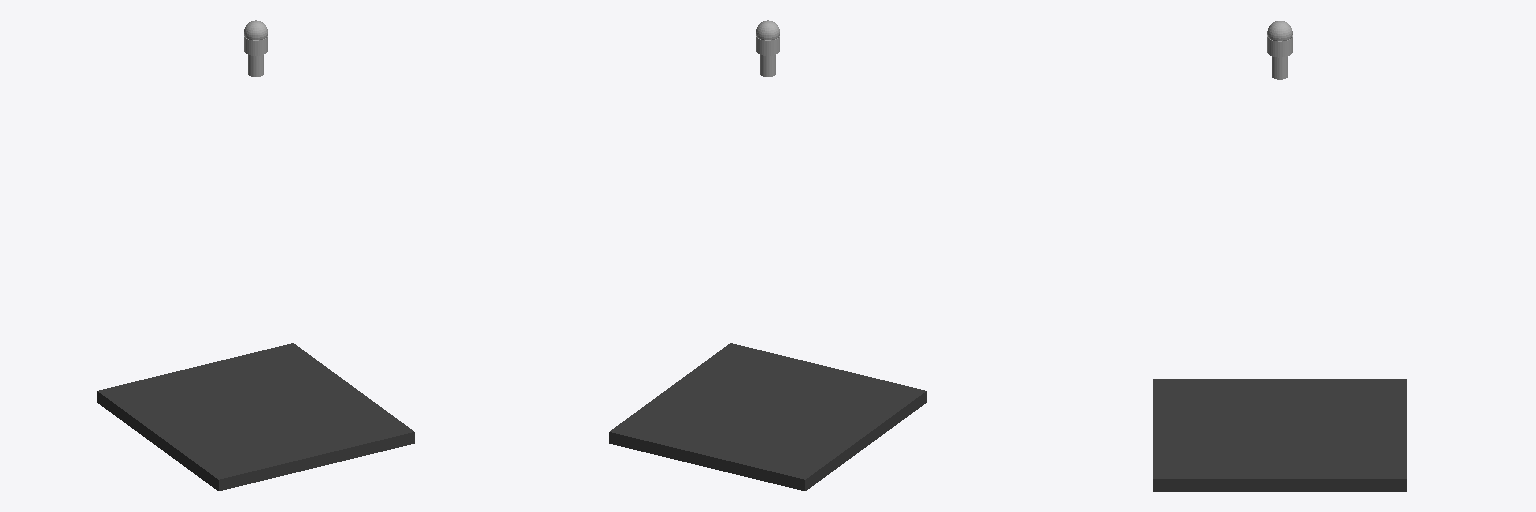
robot.urdf — kuka:
<?xml version="1.0" ?>
<!-- =================================================================================== -->
<!-- |    This document was autogenerated by xacro from kuka_lwr_arm.urdf.xml          | -->
<!-- |    EDITING THIS FILE BY HAND IS NOT RECOMMENDED                                 | -->
<!-- =================================================================================== -->
<robot name="kuka" xmlns:xacro="http://www.ros.org/wiki/xacro">
  <material name="DarkGrey">
    <color rgba="0.3 0.3 0.3 1.0"/>
  </material>
  <material name="Red">
    <color rgba="0.3 0.3 0.3 1.0"/>
  </material>
  <material name="Black">
    <color rgba="0 0 0 1.0"/>
  </material>
  <material name="Orange">
    <color rgba="1.0 0.487 0 1.0"/>
  </material>
  <material name="Silver">
    <color rgba="1.0 1.0 1.0 1.0"/>
  </material>
  <material name="Grey">
    <color rgba="0.7 0.7 0.7 1.0"/>
  </material>
  <material name="Blue">
    <color rgba="0.0 0.0 0.8 1.0"/>
  </material>
  <material name="HandGray">
    <color rgba="0.953 0.996 0.694 1.0"/>
  </material>
  <material name="SickBlue">
    <color rgba="0.3058 0.5921 0.7294 1.0"/>
  </material>

<link name="world_frame"/>
<joint name="world_base_joint" type="fixed">
    <origin rpy="0 0 0" xyz="0 0 0"/>
    <parent link="world_frame"/>
    <child link="base"/>
  </joint>

   <link name="base">
    <inertial>
      <mass value="50.0"/>
      <com xyz="0 0 0"/>
      <inertia ixx="0.01" ixy="0.00" ixz="0.00" iyy="0.01" iyz="0.00" izz="0.01"/>
    </inertial>
    <visual>
      <origin rpy="0 0 0" xyz="0 0 0"/>
      <geometry>
        <box size=".7 .75 0.04"/>
      </geometry>
      <material name="DarkGrey"/>
    </visual>
    <collision>
      <origin rpy="0 0 0" xyz="0 0 0"/>
      <geometry>
        <box size=".8 .85 0.04"/>
      </geometry>
    </collision>
  </link>

  <joint name="base_lwr_arm_0_joint" type="fixed">
    <origin rpy="0 0 0" xyz="0 0 0"/>
    <parent link="base"/>
    <child link="lwr_arm_0_link"/>
  </joint>
  <link name="lwr_arm_0_link">
    <inertial>
      <mass value="2.0"/>
      <origin xyz="0 0 0.055"/>
      <inertia ixx="0.00381666666667" ixy="0" ixz="0" iyy="0.0036" iyz="0" izz="0.00381666666667"/>
    </inertial>
    <visual>
      <origin rpy="0 0 3.14159265359" xyz="0 0 0"/>
      <geometry>
        <mesh filename="package://hardware/meshes/kuka/base.STL"/>
      </geometry>
      <material name="Orange"/>
    </visual>
    <collision>
      <origin rpy="0 0 0" xyz="0 0 0.055"/>
      <geometry>
        <cylinder length="0.11" radius="0.07"/>
      </geometry>
    </collision>
  </link>
  <joint name="lwr_arm_0_joint" type="revolute">
    <origin rpy="0 0 3.14159265359" xyz="0 0 0.11"/>
    <axis xyz="0 0 1"/>
    <limit effort="204" lower="-2.96705972839" upper="2.96705972839" velocity="1.91986217719"/>
    <safety_controller k_position="30" k_velocity="30" soft_lower_limit="-2.93215314335" soft_upper_limit="2.93215314335"/>
    <dynamics damping="1.0"/>
    <parent link="lwr_arm_0_link"/>
    <child link="lwr_arm_1_link"/>
  </joint>
  <link name="lwr_arm_1_link">
    <inertial>
      <mass value="2.0"/>
      <origin rpy="0 0 0" xyz="0 -0.06 0.130"/>
      <inertia ixx="0.0136666666667" ixy="0" ixz="0" iyy="0.003" iyz="0" izz="0.0118666666667"/>
    </inertial>
    <visual>
      <origin rpy="0 0 0" xyz="0 0 -0.008"/>
      <geometry>
        <mesh filename="package://hardware/meshes/kuka/link_1.STL"/>
      </geometry>
      <material name="Orange"/>
    </visual>
    <collision>
      <origin rpy="0 0 0" xyz="0 0 0.0"/>
      <geometry>
        <sphere radius="0.07"/>
      </geometry>
    </collision>
    <collision>
      <origin rpy="0 0 0" xyz="0 -0.06 0.2"/>
      <geometry>
        <sphere radius="0.07"/>
      </geometry>
    </collision>
    <collision>
      <origin rpy="0.291 0 0" xyz="0 -0.03 0.1"/>
      <geometry>
        <cylinder length="0.208" radius="0.07"/>
      </geometry>
    </collision>
  </link>
  <transmission name="lwr_arm_0_trans" type="SimpleTransmission">
    <actuator name="lwr_arm_0_motor"/>
    <joint name="lwr_arm_0_joint"/>
    <mechanicalReduction>1.0</mechanicalReduction>
  </transmission>
  <joint name="lwr_arm_1_joint" type="revolute">
    <origin rpy="0 0 0" xyz="0 0 0.2"/>
    <axis xyz="0 1 0"/>
    <limit effort="306" lower="-2.09439510239" upper="2.09439510239" velocity="1.91986217719"/>
    <safety_controller k_position="30" k_velocity="30" soft_lower_limit="-2.05948851735" soft_upper_limit="2.05948851735"/>
    <dynamics damping="1.0" friction="10"/>
    <parent link="lwr_arm_1_link"/>
    <child link="lwr_arm_2_link"/>
  </joint>
  <link name="lwr_arm_2_link">
    <inertial>
      <mass value="2.0"/>
      <origin rpy="0 0 0" xyz="0 0.06 0.07"/>
      <inertia ixx="0.0136666666667" ixy="0" ixz="0" iyy="0.003" iyz="0" izz="0.0118666666667"/>
    </inertial>
    <visual>
      <origin rpy="0 0 0" xyz="0 0 0.0"/>
      <geometry>
        <mesh filename="package://hardware/meshes/kuka/link_2.STL"/>
      </geometry>
      <material name="Orange"/>
    </visual>
    <collision>
      <origin rpy="0 0 0" xyz="0 0 0.2"/>
      <geometry>
        <sphere radius="0.07"/>
      </geometry>
    </collision>
    <collision>
      <origin rpy="0 0 0" xyz="0 0.06 0.0"/>
      <geometry>
        <sphere radius="0.07"/>
      </geometry>
    </collision>
    <collision>
      <origin rpy="0.291 0 0" xyz="0 0.03 0.1"/>
      <geometry>
        <cylinder length="0.208" radius="0.07"/>
      </geometry>
    </collision>
  </link>
  <transmission name="lwr_arm_1_trans" type="SimpleTransmission">
    <actuator name="lwr_arm_1_motor"/>
    <joint name="lwr_arm_1_joint"/>
    <mechanicalReduction>1.0</mechanicalReduction>
  </transmission>
  <joint name="lwr_arm_2_joint" type="revolute">
    <origin rpy="0 0 0" xyz="0 0 0.20"/>
    <axis xyz="0 0 1"/>
    <limit effort="204" lower="-2.96705972839" upper="2.96705972839" velocity="2.26892802759"/>
    <safety_controller k_position="30" k_velocity="30" soft_lower_limit="-2.93215314335" soft_upper_limit="2.93215314335"/>
    <dynamics damping="1.0"/>
    <parent link="lwr_arm_2_link"/>
    <child link="lwr_arm_3_link"/>
  </joint>
  <link name="lwr_arm_3_link">
    <inertial>
      <mass value="2.0"/>
      <origin rpy="0 0 0" xyz="0 0.06 0.130"/>
      <inertia ixx="0.0136666666667" ixy="0" ixz="0" iyy="0.003" iyz="0" izz="0.0118666666667"/>
    </inertial>
    <visual>
      <origin rpy="0 0 0" xyz="0 0 -0.008"/>
      <geometry>
        <mesh filename="package://hardware/meshes/kuka/link_3.STL"/>
      </geometry>
      <material name="Orange"/>
    </visual>
    <collision>
      <origin rpy="0 0 0" xyz="0 0 0.0"/>
      <geometry>
        <sphere radius="0.07"/>
      </geometry>
    </collision>
    <collision>
      <origin rpy="0 0 0" xyz="0 0.06 0.2"/>
      <geometry>
        <sphere radius="0.07"/>
      </geometry>
    </collision>
    <collision>
      <origin rpy="-0.291 0 0" xyz="0 0.03 0.1"/>
      <geometry>
        <cylinder length="0.208" radius="0.07"/>
      </geometry>
    </collision>
  </link>
  <transmission name="lwr_arm_2_trans" type="SimpleTransmission">
    <actuator name="lwr_arm_2_motor"/>
    <joint name="lwr_arm_2_joint"/>
    <mechanicalReduction>1.0</mechanicalReduction>
  </transmission>
  <joint name="lwr_arm_3_joint" type="revolute">
    <origin rpy="0 0 0" xyz="0 0 0.20"/>
    <axis xyz="0 -1 0"/>
    <limit effort="306" lower="-2.09439510239" upper="2.09439510239" velocity="2.26892802759"/>
    <safety_controller k_position="30" k_velocity="30" soft_lower_limit="-2.05948851735" soft_upper_limit="2.05948851735"/>
    <dynamics damping="1.0"/>
    <parent link="lwr_arm_3_link"/>
    <child link="lwr_arm_4_link"/>
  </joint>
  <link name="lwr_arm_4_link">
    <inertial>
      <mass value="2.0"/>
      <origin rpy="0 0 0" xyz="0 -0.06 0.07"/>
      <inertia ixx="0.0136666666667" ixy="0" ixz="0" iyy="0.003" iyz="0" izz="0.0118666666667"/>
    </inertial>
    <visual>
      <origin rpy="0 0 0" xyz="0 0 0.0"/>
      <geometry>
        <mesh filename="package://hardware/meshes/kuka/link_4.STL"/>
      </geometry>
      <material name="Orange"/>
    </visual>
    <collision>
      <origin rpy="0 0 0" xyz="0 0 0.2"/>
      <geometry>
        <sphere radius="0.07"/>
      </geometry>
    </collision>
    <collision>
      <origin rpy="0 0 0" xyz="0 -0.06 0.0"/>
      <geometry>
        <sphere radius="0.07"/>
      </geometry>
    </collision>
    <collision>
      <origin rpy="-0.291 0 0" xyz="0 -0.03 0.1"/>
      <geometry>
        <cylinder length="0.208" radius="0.07"/>
      </geometry>
    </collision>
  </link>
  <transmission name="lwr_arm_3_trans" type="SimpleTransmission">
    <actuator name="lwr_arm_3_motor"/>
    <joint name="lwr_arm_3_joint"/>
    <mechanicalReduction>1.0</mechanicalReduction>
  </transmission>
  <joint name="lwr_arm_4_joint" type="revolute">
    <origin rpy="0 0 0" xyz="0 0 0.20"/>
    <axis xyz="0 0 1"/>
    <limit effort="204" lower="-2.96705972839" upper="2.96705972839" velocity="2.26892802759"/>
    <safety_controller k_position="30" k_velocity="30" soft_lower_limit="-2.93215314335" soft_upper_limit="2.93215314335"/>
    <dynamics damping="1.0"/>
    <parent link="lwr_arm_4_link"/>
    <child link="lwr_arm_5_link"/>
  </joint>
  <link name="lwr_arm_5_link">
    <inertial>
      <mass value="2.0"/>
      <origin rpy="0 0 0" xyz="0 0 0.124"/>
      <inertia ixx="0.0126506666667" ixy="0" ixz="0" iyy="0.003" iyz="0" izz="0.0108506666667"/>
    </inertial>
    <visual>
      <origin rpy="0 0 0" xyz="0 0 -0.008"/>
      <geometry name="lwr_arm_5_geom">
        <mesh filename="package://hardware/meshes/kuka/link_5.STL"/>
      </geometry>
      <material name="Orange"/>
    </visual>
    <collision>
      <origin rpy="0 0 0" xyz="0 0 0.0"/>
      <geometry>
        <sphere radius="0.07"/>
      </geometry>
    </collision>
    <collision>
      <origin rpy="0 0 0" xyz="0 -0.04 0.19"/>
      <geometry>
        <sphere radius="0.07"/>
      </geometry>
    </collision>
    <collision>
      <origin rpy="0.207 0 0" xyz="0 -0.02 0.095"/>
      <geometry>
        <cylinder length="0.198" radius="0.07"/>
      </geometry>
    </collision>
  </link>
  <transmission name="lwr_arm_4_trans" type="SimpleTransmission">
    <actuator name="lwr_arm_4_motor"/>
    <joint name="lwr_arm_4_joint"/>
    <mechanicalReduction>1.0</mechanicalReduction>
  </transmission>
  <joint name="lwr_arm_5_joint" type="revolute">
    <origin rpy="0 0 0" xyz="0 0 0.19"/>
    <axis xyz="0 1 0"/>
    <limit effort="306" lower="-2.09439510239" upper="2.09439510239" velocity="3.14159265359"/>
    <safety_controller k_position="30" k_velocity="30" soft_lower_limit="-2.05948851735" soft_upper_limit="2.05948851735"/>
    <dynamics damping="1.0"/>
    <parent link="lwr_arm_5_link"/>
    <child link="lwr_arm_6_link"/>
  </joint>
  <link name="lwr_arm_6_link">
    <inertial>
      <mass value="0.2"/>
      <origin rpy="0 0 0" xyz="0 0 0.0625"/>
      <inertia ixx="0.000520833333333" ixy="0" ixz="0" iyy="0.000520833333333" iyz="0" izz="0.000520833333333"/>
    </inertial>
    <visual>
      <origin rpy="0 0 0" xyz="0 0 0"/>
      <geometry>
        <mesh filename="package://hardware/meshes/kuka/link_6.STL"/>
      </geometry>
      <material name="Grey"/>
    </visual>
  </link>
  <transmission name="lwr_arm_5_trans" type="SimpleTransmission">
    <actuator name="lwr_arm_5_motor"/>
    <joint name="lwr_arm_5_joint"/>
    <mechanicalReduction>1.0</mechanicalReduction>
  </transmission>
  <joint name="lwr_arm_6_joint" type="revolute">
    <origin rpy="0 0 3.14159265359" xyz="0 0 0.078"/>
    <axis xyz="0 0 1"/>
    <limit effort="204" lower="-2.96705972839" upper="2.96705972839" velocity="3.14159265359"/>
    <safety_controller k_position="30" k_velocity="30" soft_lower_limit="-2.93215314335" soft_upper_limit="2.93215314335"/>
    <dynamics damping="1.0"/>
    <parent link="lwr_arm_6_link"/>
    <child link="lwr_arm_7_link"/>
  </joint>
  <link name="lwr_arm_7_link">
    <inertial>
      <mass value="0.2"/>
      <origin xyz="0 0 0"/>
      <inertia ixx="0.0333333333333" ixy="0" ixz="0" iyy="0.0333333333333" iyz="0" izz="0.0333333333333"/>
    </inertial>
    <visual>
      <origin rpy="0 0 0" xyz="0 0 0"/>
      <geometry>
        <mesh filename="package://hardware/meshes/kuka/link_7.STL"/>
      </geometry>
      <material name="Grey"/>
    </visual>
    <collision>
      <origin rpy="0 0 -0.785398163397" xyz="0 0 0"/>
      <geometry>
        <cylinder length="0.05" radius="0.04"/>
      </geometry>
    </collision>
  </link>
  <link name="force_torque_sensor">
    <inertial>
      <mass value="0.2"/>
      <origin xyz="0 0 0"/>
      <inertia ixx="0.0333333333333" ixy="0" ixz="0" iyy="0.0333333333333" iyz="0" izz="0.0333333333333"/>
    </inertial>
    <visual>
      <origin rpy="0 0 0" xyz="0 0 -0.065"/>
      <geometry>
        <cylinder length="0.09" radius="0.025"/>
      </geometry>
      <material name="Grey"/>
    </visual>
    <visual>
      <origin rpy="0 0 0" xyz="0 0 -0.016"/>
      <geometry>
        <cylinder length="0.032" radius="0.0375"/>
      </geometry>
      <material name="Grey"/>
    </visual>
    <visual>
      <origin rpy="0 0 0" xyz="0 0 0.01"/>
      <geometry>
        <cylinder length="0.02" radius="0.0375"/>
      </geometry>
      <material name="Grey"/>
    </visual>
  </link>
  <transmission name="lwr_arm_6_trans" type="SimpleTransmission">
    <actuator name="lwr_arm_6_motor"/>
    <joint name="lwr_arm_6_joint"/>
    <mechanicalReduction>1.0</mechanicalReduction>
  </transmission>
  <joint name="force_torque_sensor_mount" type="fixed">
    <origin rpy="0 0 0.2192" xyz="0 0 0.102"/>
    <parent link="lwr_arm_7_link"/>
    <child link="force_torque_sensor"/>
  </joint>
  <link name="contact_point">
    <visual>
      <origin rpy="0 0 0" xyz="0 0 0"/>
      <geometry>
        <sphere radius="0.0375"/>
      </geometry>
      <material name="Grey"/>
    </visual>
  </link>
  <joint name="contact_point_joint" type="fixed">
    <origin rpy="0 0 -0.2192" xyz="0 0 0.03"/>
    <parent link="force_torque_sensor"/>
    <child link="contact_point"/>
  </joint>
</robot>

--- Render facts (derived) ---
The picture shows the robot from 3 angles, left to right: view 1: azimuth 30°, elevation 25°; view 2: azimuth 150°, elevation 25°; view 3: azimuth 270°, elevation 25°; orthographic projection.
Robot: kuka — 12 links, 11 joints (7 revolute, 4 fixed); root link world_frame; default pose: every joint at zero.
Links seen in each view (by area): view 1: base, force_torque_sensor; view 2: base, force_torque_sensor; view 3: base, force_torque_sensor.
Link boxes in pixels (x1,y1,x2,y2): base: (97, 343, 414, 490); force_torque_sensor: (244, 36, 267, 76); base: (609, 343, 926, 490); force_torque_sensor: (756, 36, 779, 76); base: (1153, 379, 1406, 491); force_torque_sensor: (1267, 35, 1292, 79).
Size in the robot's own frame: 0.7 by 0.75 by 1.37 metres.
Meshes: 8 distinct files referenced, 0 mesh visuals loaded (none loaded); not drawn: 8 (reference not matched to a file when rendering).